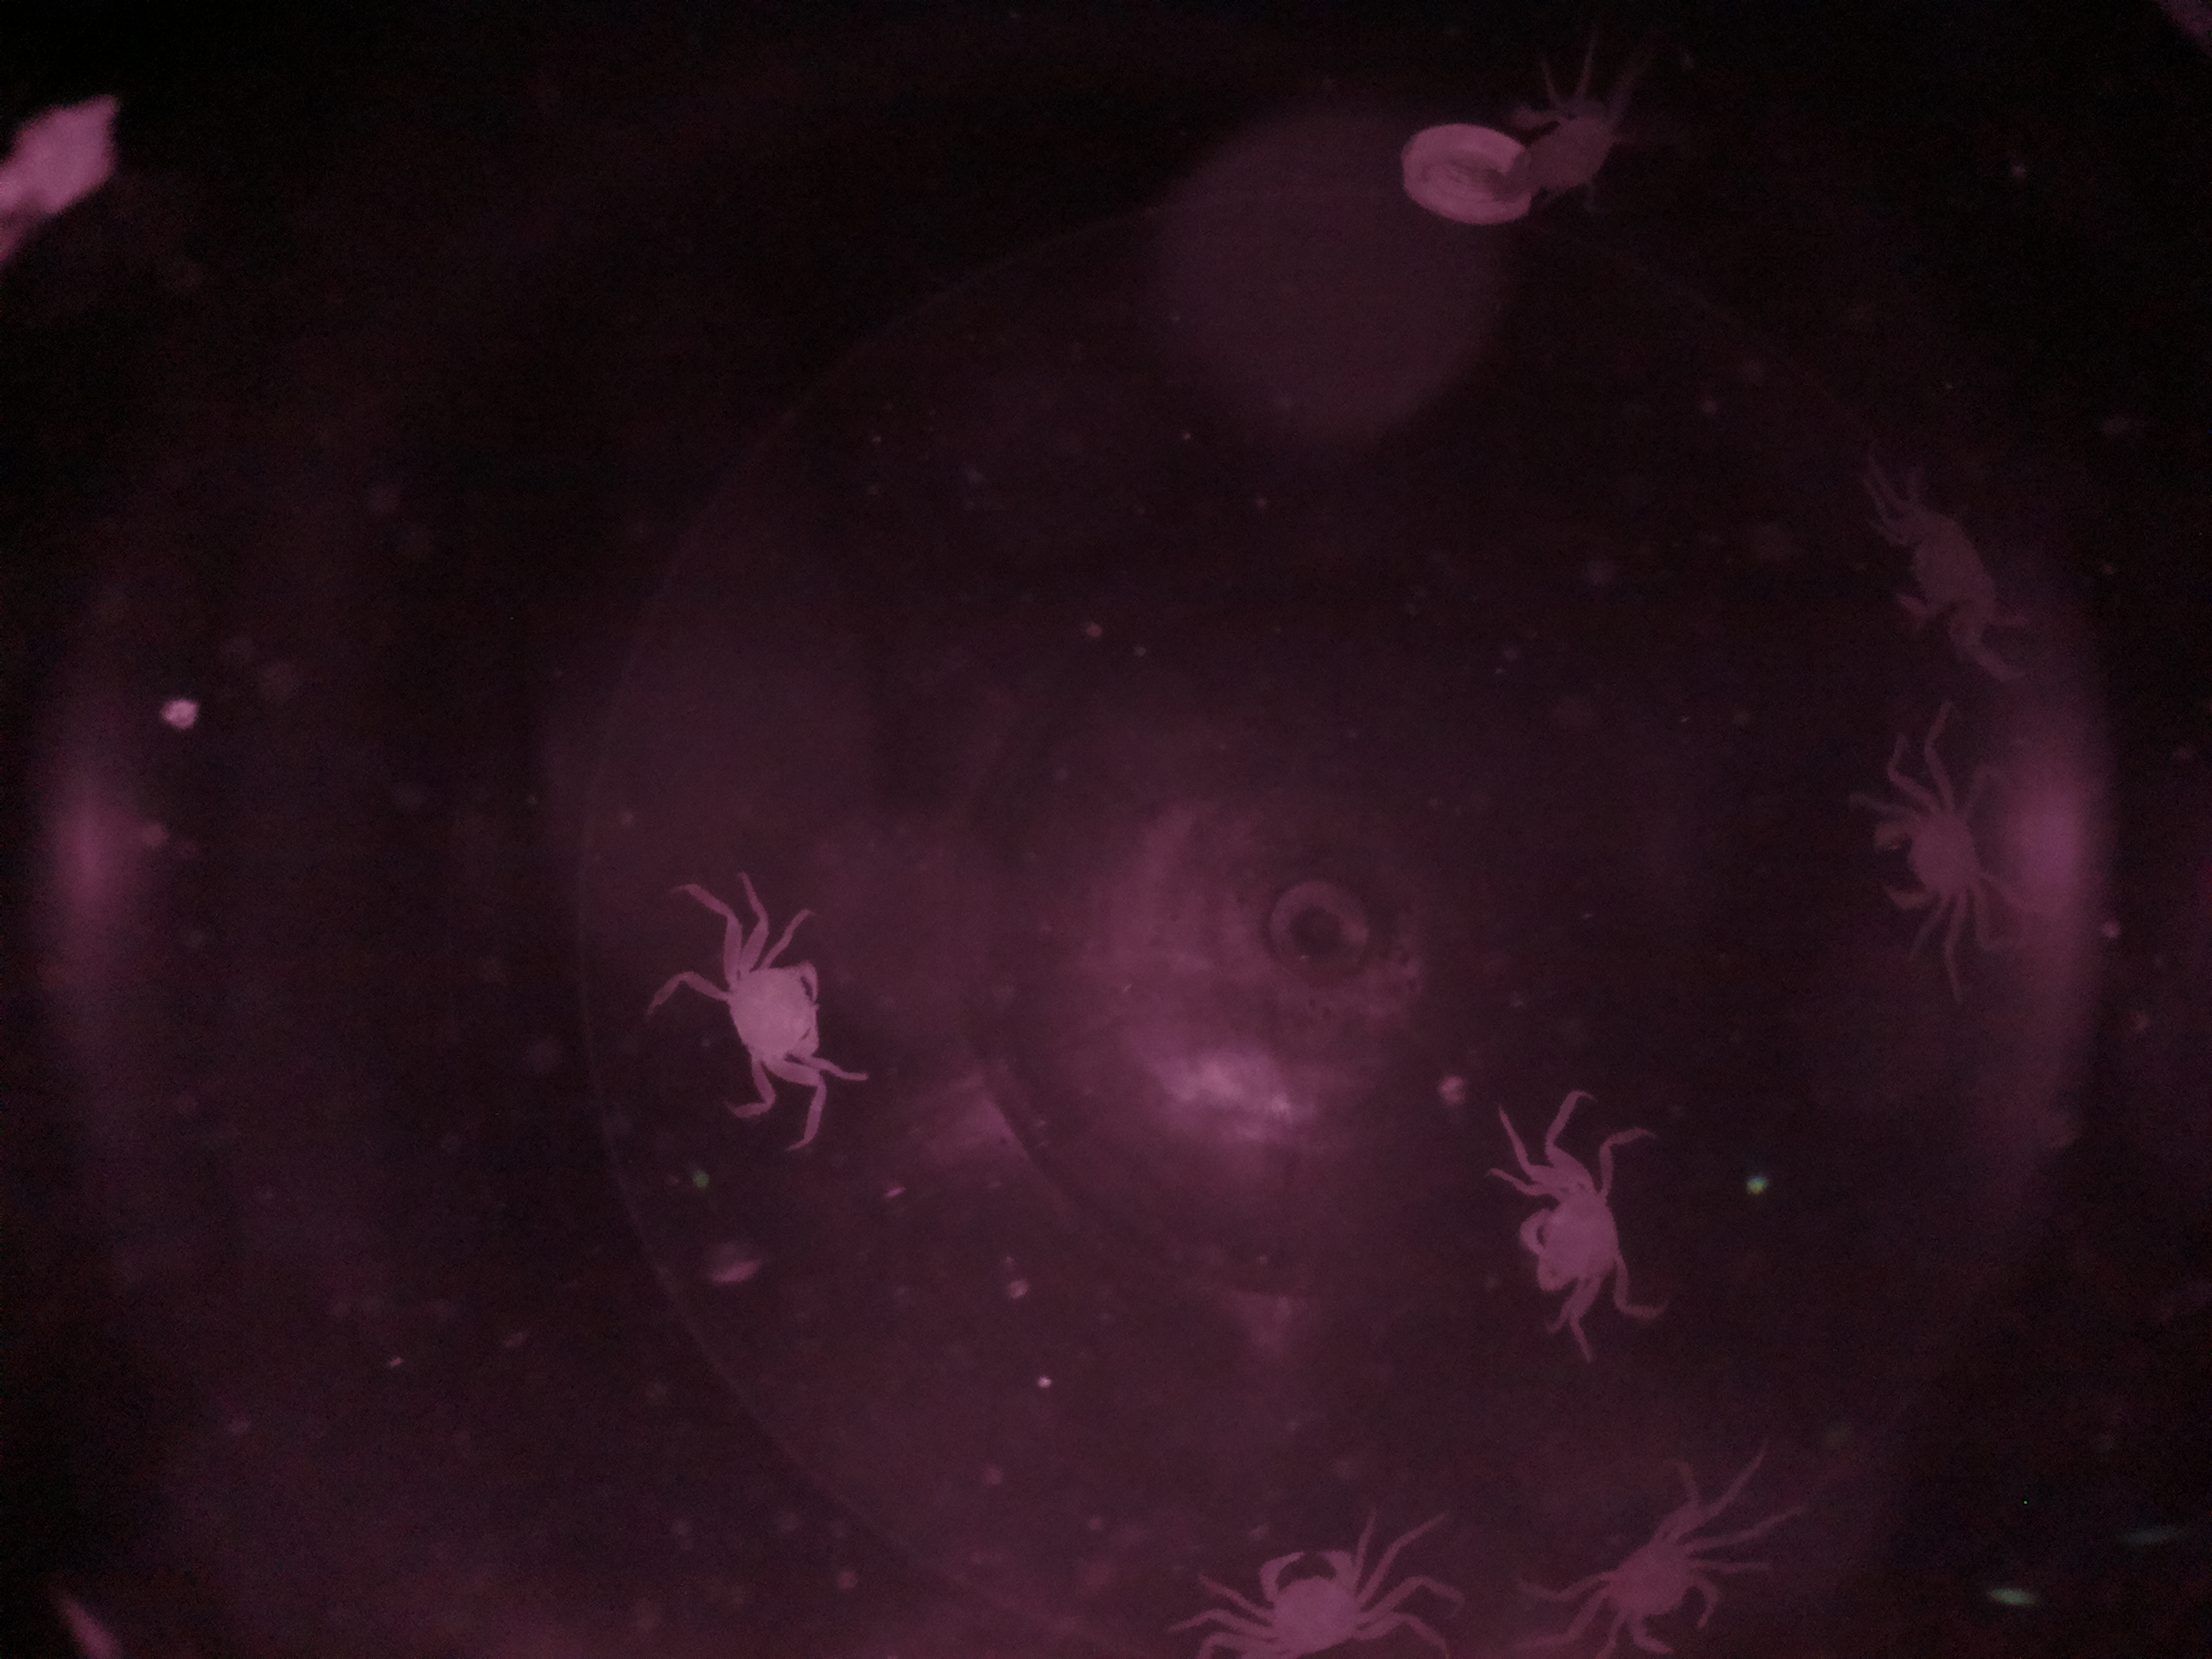Crab: (1540, 1499, 1733, 1659), (686, 927, 859, 1094), (1853, 777, 2012, 955), (1494, 1148, 1639, 1333), (1219, 1507, 1395, 1659)
